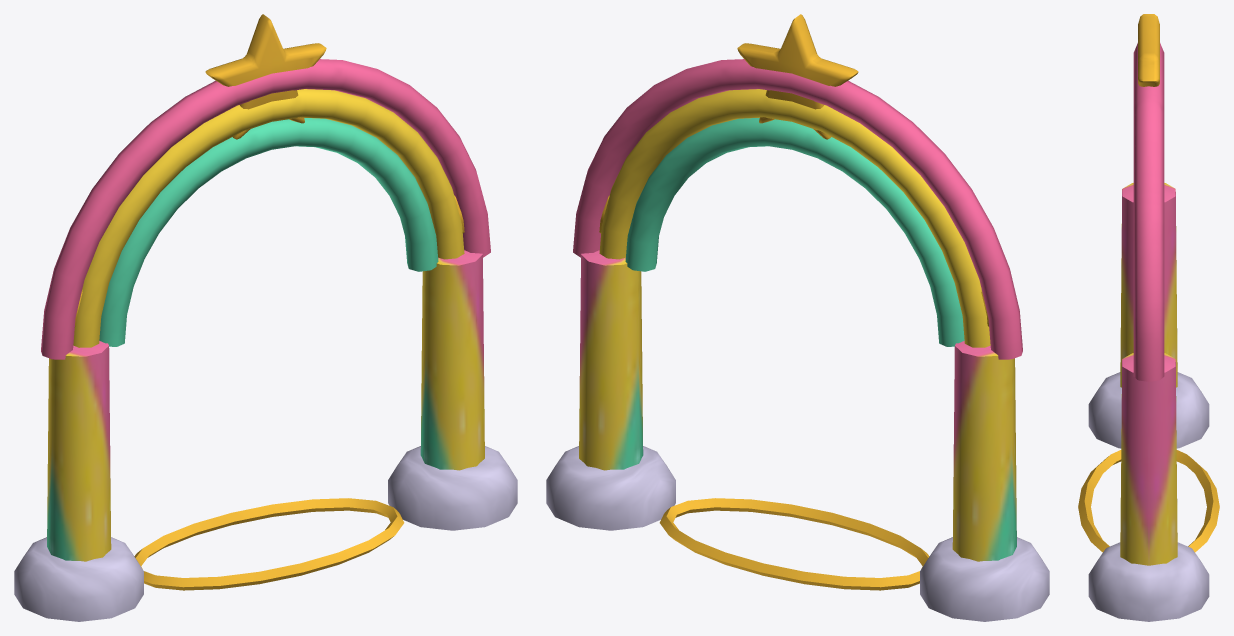
The model's file is StarGate.glb.
3 views of the same model, side by side, from view 1: azimuth 30°, elevation 25°; view 2: azimuth 150°, elevation 25°; view 3: azimuth 270°, elevation 25° (orthographic). The views are drawn at different scales.
Visible parts, largest first — view 1: Pillars, ArcA, Base, ArcB, ArcC, Ring, Star; view 2: Pillars, ArcA, Base, ArcB, ArcC, Ring, Star; view 3: Pillars, Base, ArcA, Ring, Star.
Boxes of the visible parts, x1,y1,x2,y2 form: Pillars: (47, 250, 484, 561); ArcA: (41, 59, 490, 359); Base: (14, 446, 517, 621); ArcB: (73, 89, 464, 347); ArcC: (99, 118, 438, 346); Ring: (134, 498, 404, 590); Star: (75, 14, 464, 326); Pillars: (579, 250, 1016, 561); ArcA: (573, 59, 1022, 359); Base: (546, 446, 1049, 621); ArcB: (599, 89, 990, 347); ArcC: (625, 118, 964, 346); Ring: (659, 498, 929, 590); Star: (599, 14, 988, 326); Pillars: (1120, 183, 1177, 565); Base: (1088, 372, 1209, 621); ArcA: (1133, 43, 1164, 381); Ring: (1078, 450, 1219, 552); Star: (1138, 14, 1159, 86).
Bounding box in the file's own units: 13 × 13.66 × 3.52.
Materials: 7 (7 with a texture image).
